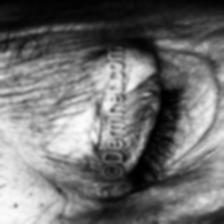Unclassified: (41, 96, 93, 158), (98, 40, 152, 88)
